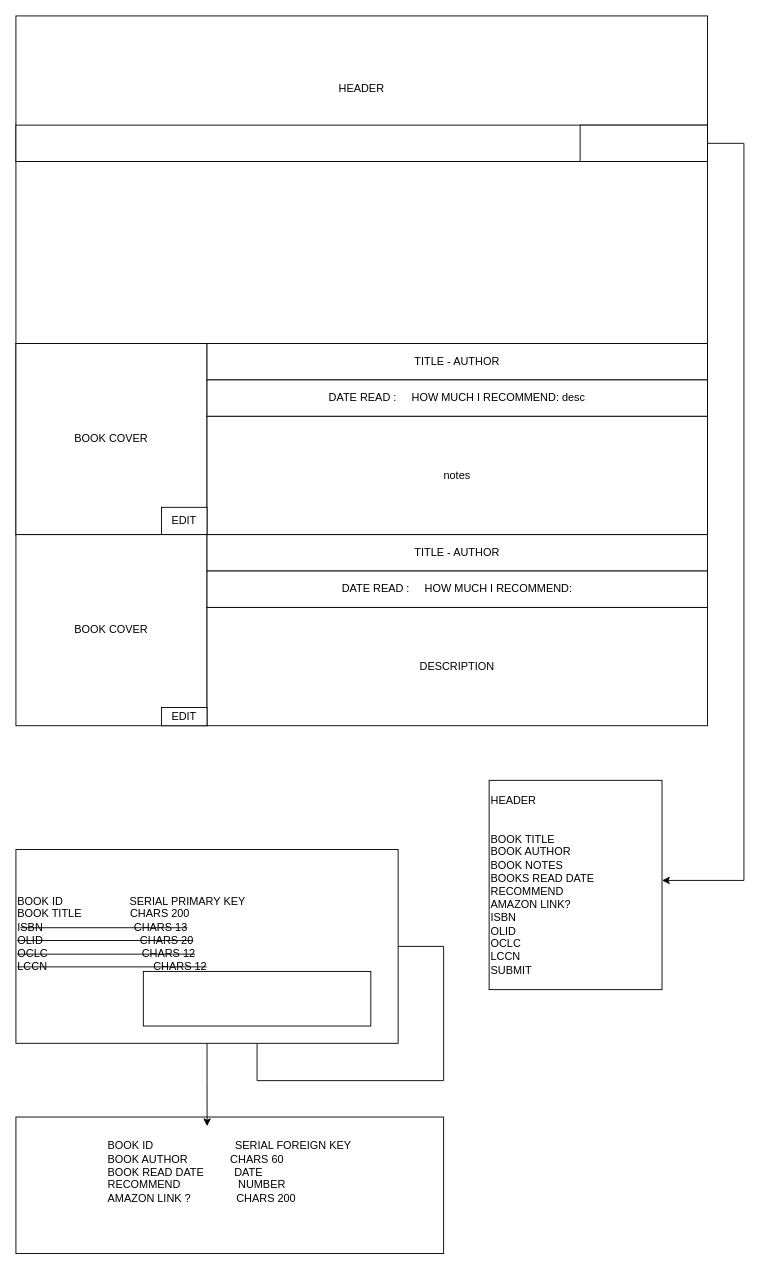
Image size: 767x1269. Some labels were removed from this diagram. Each missing label, with the box of its shape:
ADD BOOK: (579, 124, 708, 162)
BOOK ID FOREIGN KEY BOOK NOTES CHARS 500: (142, 971, 371, 1026)
INTRODUCTION: (15, 161, 708, 344)
SORT BY RATING RECENCY AND TITLE: (15, 124, 708, 162)
